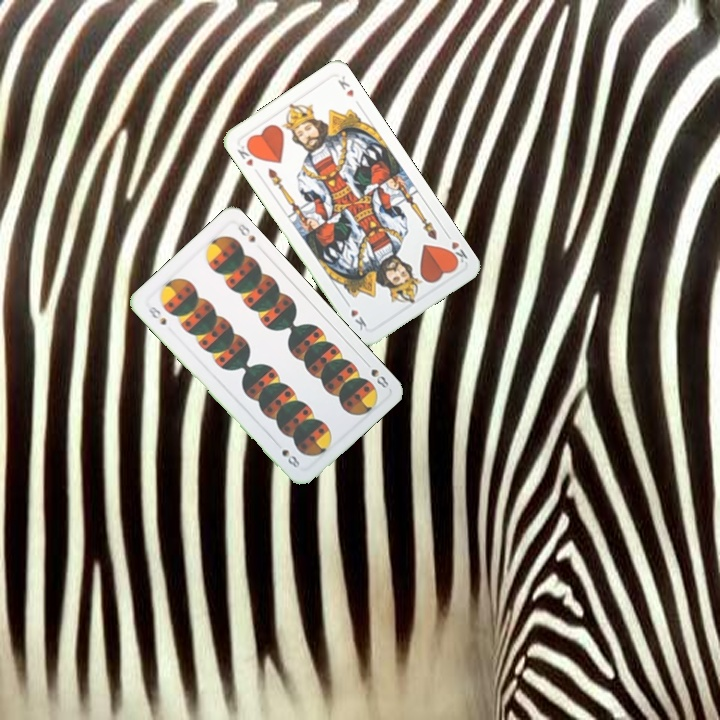HK: (441, 228, 470, 267), (233, 139, 259, 169)
S8: (360, 357, 391, 391), (143, 301, 169, 328)
